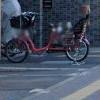bicycles: (2, 12, 90, 63)
